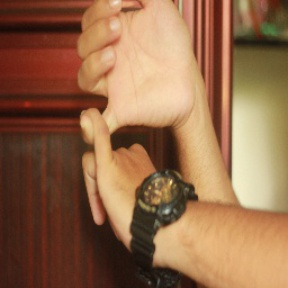S: (67, 1, 195, 224)
